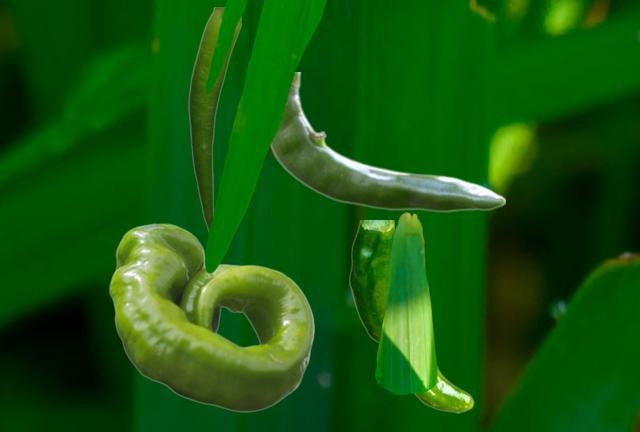green_chili: (109, 223, 313, 411), (269, 72, 504, 211), (349, 220, 473, 412), (188, 7, 240, 230)
